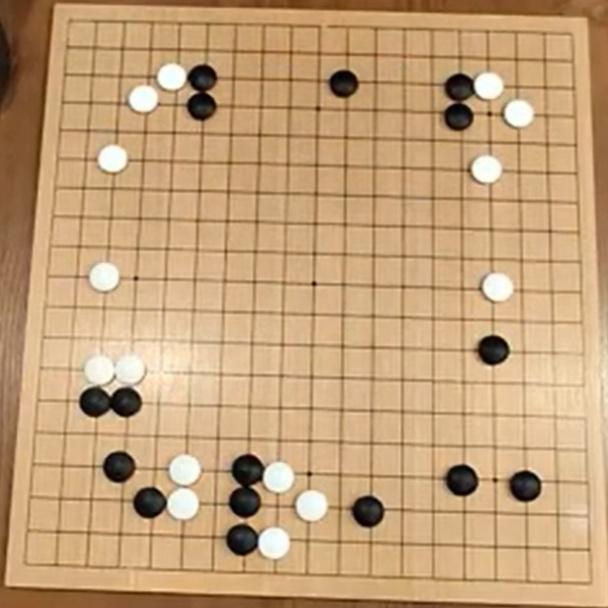corners: (566, 551, 602, 606), (10, 536, 51, 580), (553, 19, 586, 59), (56, 1, 86, 42)
